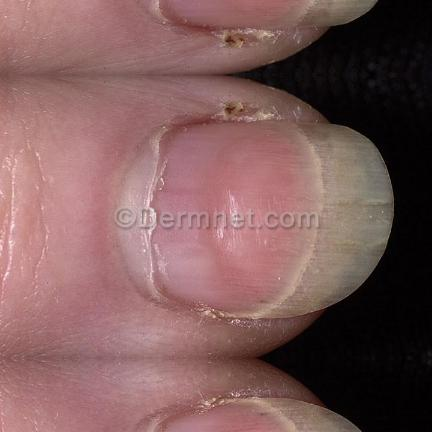Nail: (151, 118, 395, 320), (157, 394, 362, 432), (161, 0, 380, 30)
